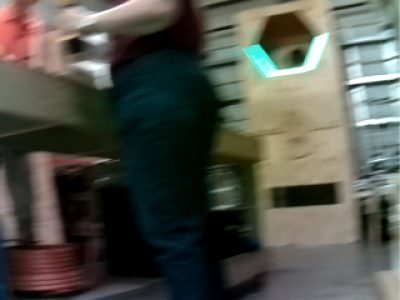target: (241, 33, 332, 77)
